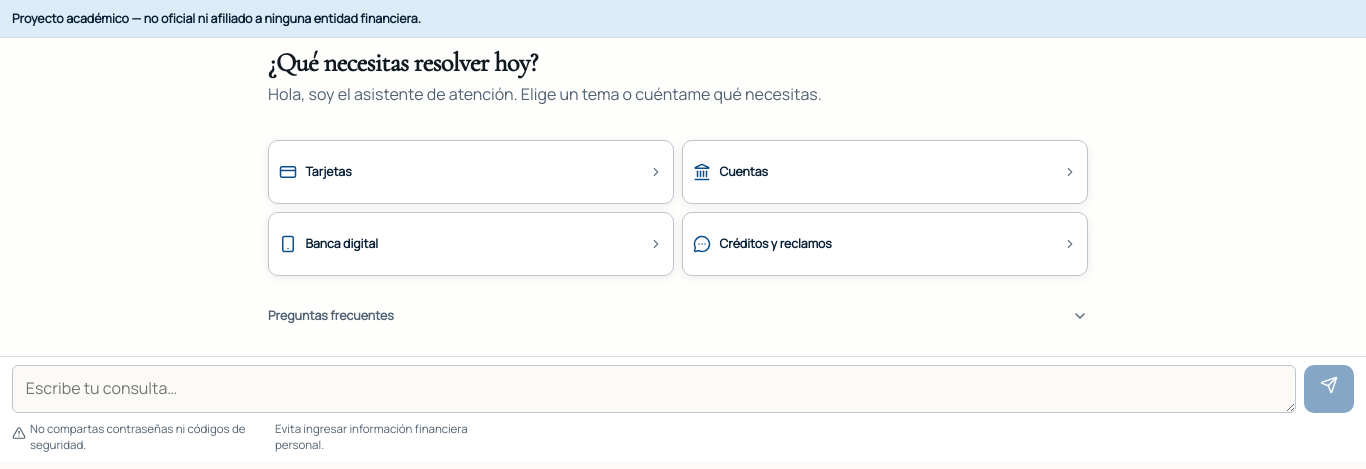
AssistantConversation › replaces stale institution-specific replies and hides their sources
Type "¿Qué condiciones tiene una cuenta?" into the text box labelled "Escribe tu consulta" at (654, 389), box [12,365,1296,413]
Then press Enter
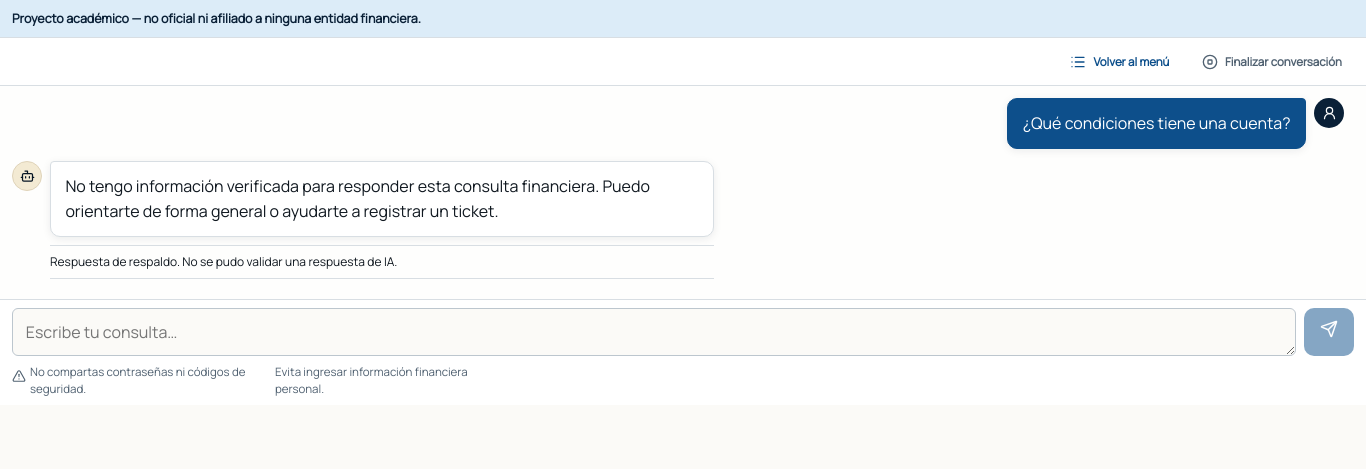
Now the text "No tengo información verificada para responder esta consulta financiera. Puedo orientarte de forma general o ayudarte a " is shown, box [65,175,650,222]
